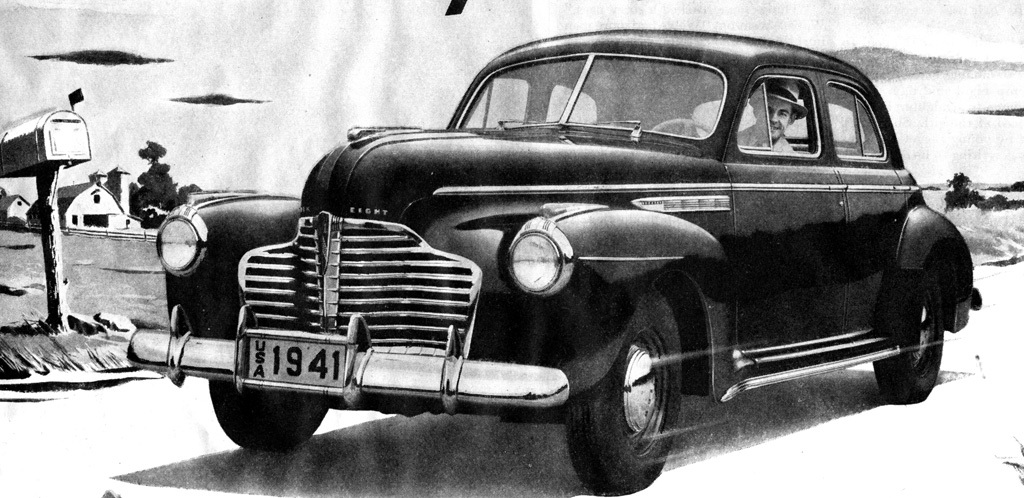Car: (128, 27, 979, 497)
